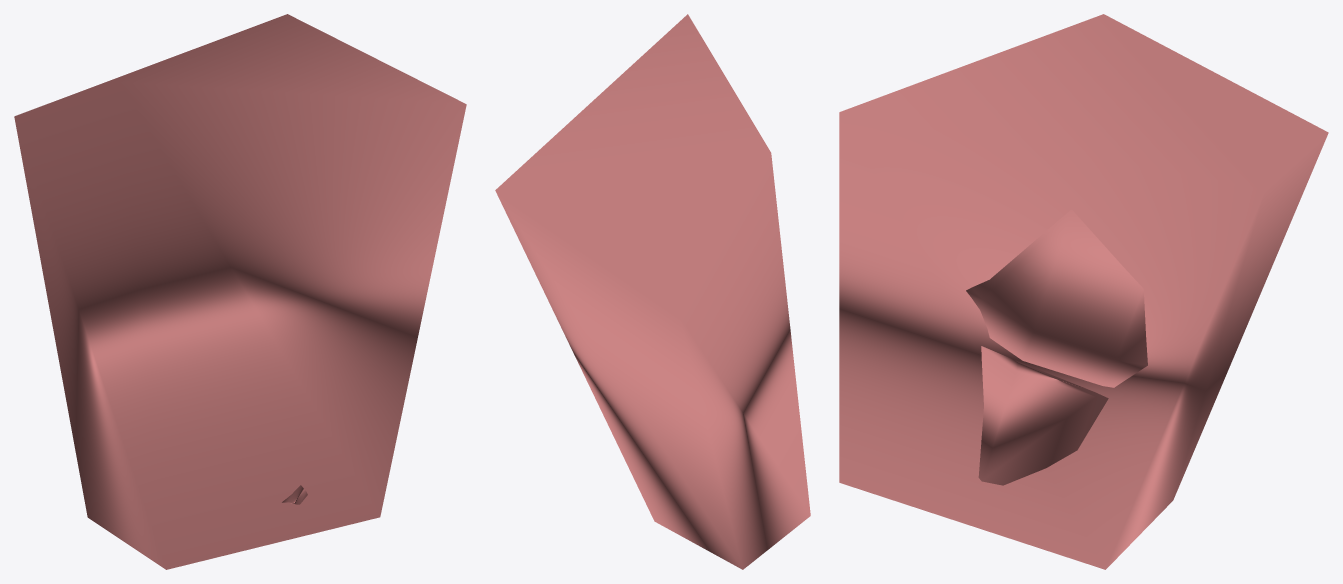
The model's file is pinger_plate_motor_right_scaled.dae.
3 views of the same model, side by side, from view 1: azimuth 30°, elevation 25°; view 2: azimuth 150°, elevation 25°; view 3: azimuth 270°, elevation 25° (orthographic). The views are drawn at different scales.
Parts seen in each view (by area): view 1: pinger_plate_motor_right_scaled; view 2: pinger_plate_motor_right_scaled; view 3: pinger_plate_motor_right_scaled.
Part boxes in pixels (bbox=[...]): pinger_plate_motor_right_scaled: bbox=[14, 14, 466, 569]; pinger_plate_motor_right_scaled: bbox=[495, 14, 810, 569]; pinger_plate_motor_right_scaled: bbox=[839, 14, 1328, 569].
Size of the model in its own units: 0.7822 by 1.29 by 1.46.
